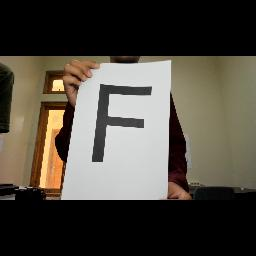f: (88, 82, 152, 170)
